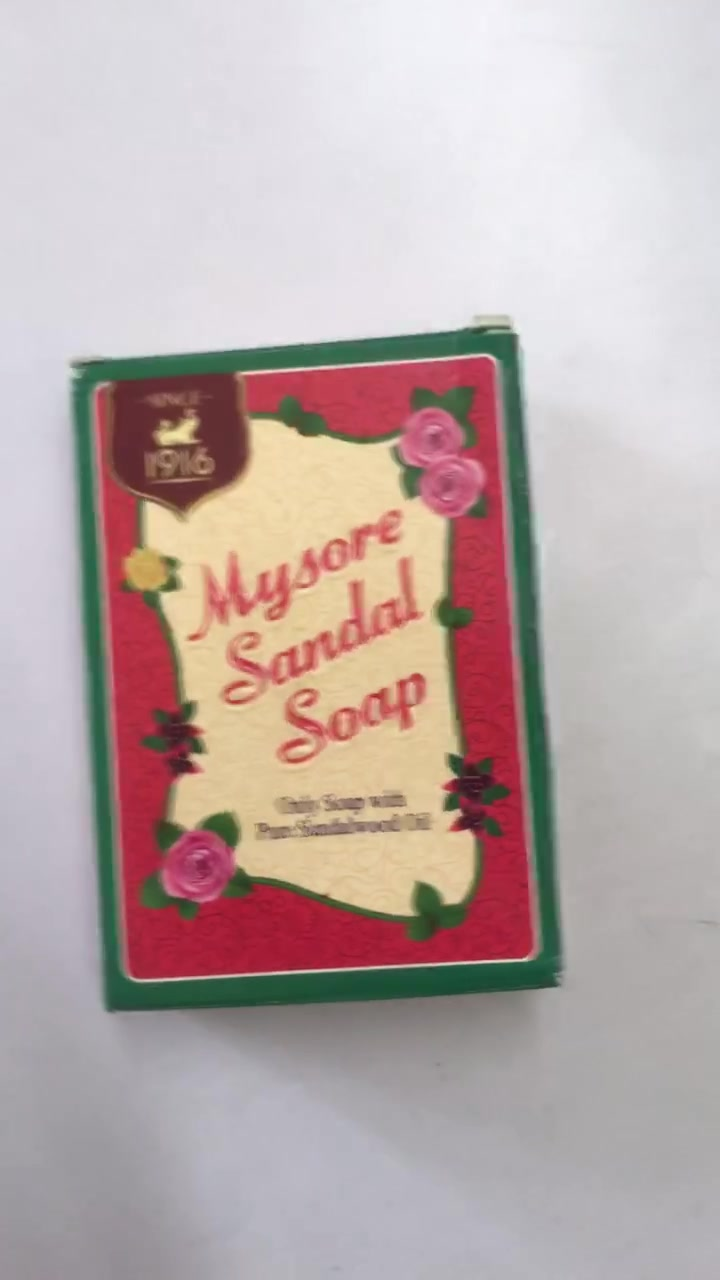mysore sandal soap: (77, 334, 563, 989)
